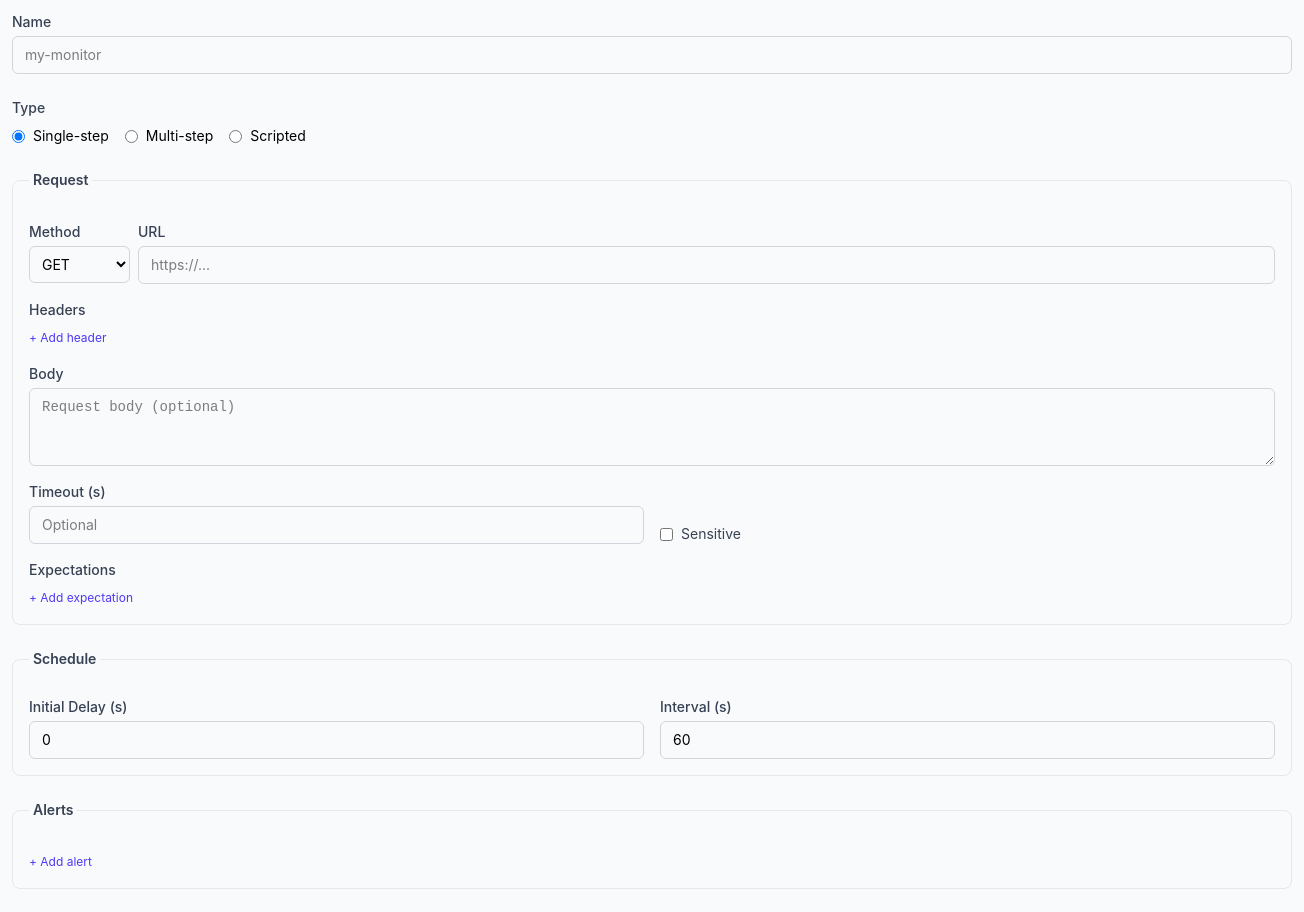
MonitorForm › toggles to multi-step mode
Click the radio button labelled "Multi-step".
click(131, 136)  # box x1=125 y1=130 x2=138 y2=142
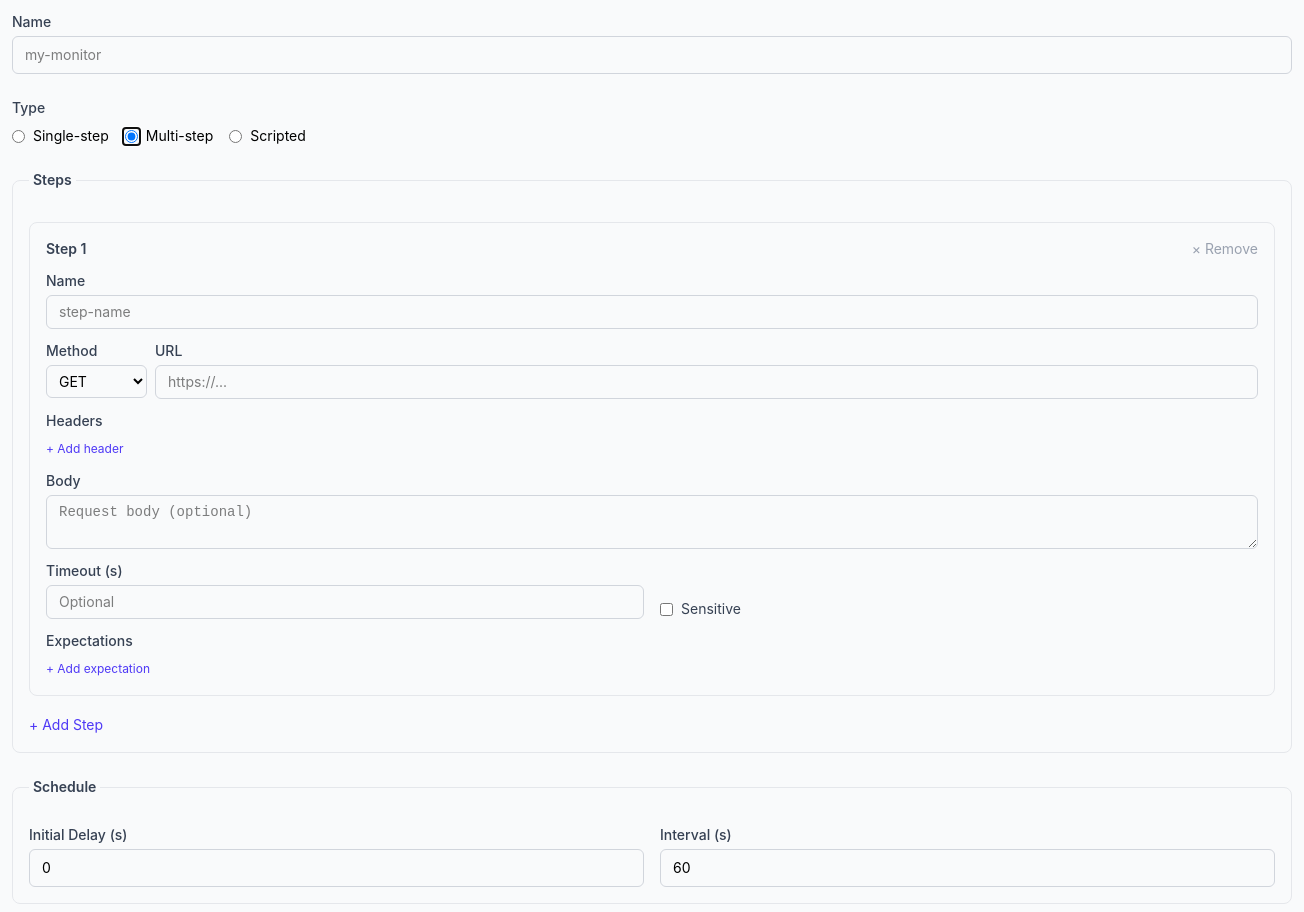
Expected: the text "Steps" is shown, x1=33 y1=171 x2=72 y2=188
